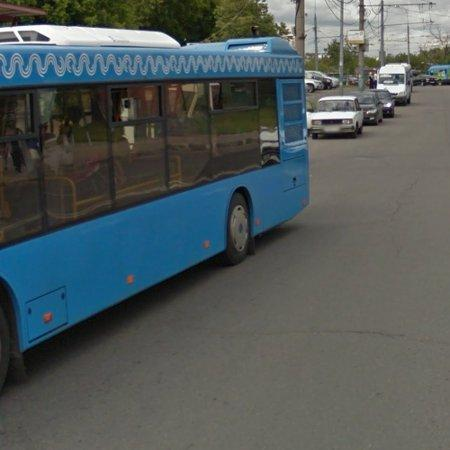buses: (0, 25, 310, 377)
